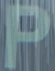Parking: (4, 2, 52, 69)
